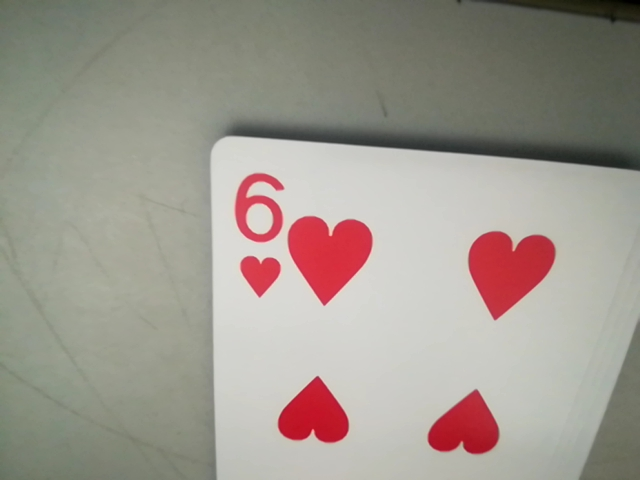hx 6: (224, 143, 285, 299)
